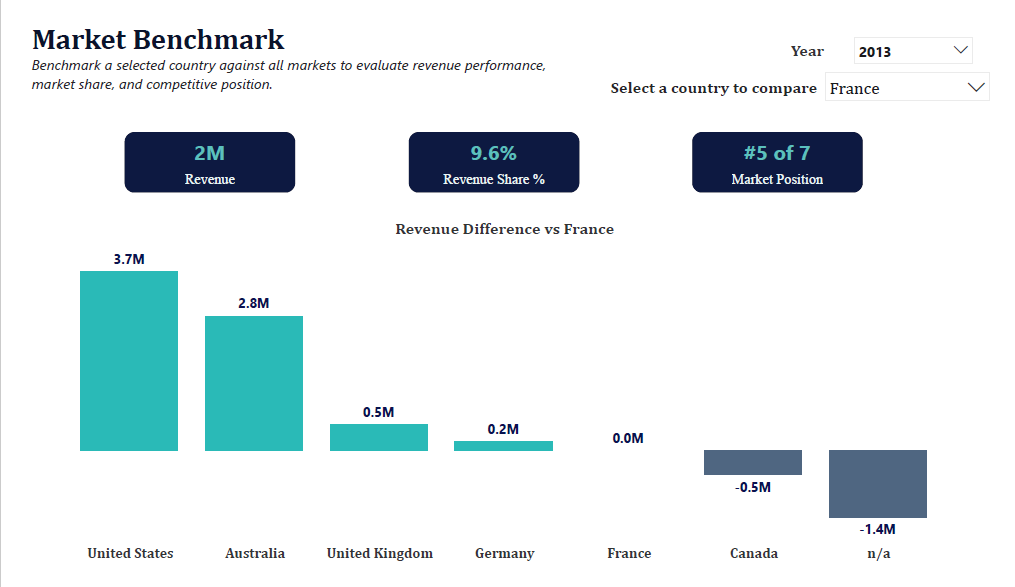

What the dashboard file says about the page in this screenshot:
{"tool":"powerbi","page":{"name":"Market Benchmark","canvas":[1280,720],"ordinal":4},"visuals":[{"type":"slicer","fields":{"Values":["dim_date.Date.Variation.Date Hierarchy.Year"]},"box":[1083.9,14,174.7,55.4],"z":0,"group":"g1"},{"type":"slicer","fields":{"Values":["Country Picker.country"]},"box":[1045.4,61.5,234.6,279.9],"z":0},{"type":"clusteredColumnChart","fields":{"Category":["gold dim_customers.country"],"Y":["Created_measures.Countries Total Sales Vs Selected country"]},"box":[9.7,252.4,1250.9,467.7],"z":1},{"type":"cardVisual","fields":{"Data":["Created_measures.Selected Country Revenue Benchmark"]},"box":[121.4,132.4,257.3,113.3],"z":2},{"type":"cardVisual","fields":{"Data":["Created_measures.Selected Country Revenue Share % Benchmark"]},"box":[492.7,132.4,257.3,113.3],"z":3},{"type":"cardVisual","fields":{"Data":["Created_measures.Market Position"]},"box":[864.1,132.4,257.3,113.3],"z":4},{"type":"textbox","box":[768.6,72.8,299.4,45.3],"z":5},{"type":"group","id":"g1","title":"Group 1","box":[981.4,14,278.4,56.1],"z":6},{"type":"textbox","box":[11.3,0,734.7,118.1],"z":7},{"type":"textbox","box":[981.4,24.1,102.5,37],"z":1000,"group":"g1"}]}

Visuals, with their boxes in screenshot pixels (x1, y1, x2, y2), scaled from the page's 1280x720 canvas onto the 1015x587 screenshot:
slicer - dim_date.Date.Variation.Date Hierarchy.Year: 859/11/998/57
slicer - Country Picker.country: 829/50/1014/278
clusteredColumnChart - gold dim_customers.country x Created_measures.Countries Total Sales Vs Selected country: 8/206/1000/586
cardVisual - Created_measures.Selected Country Revenue Benchmark: 96/108/300/200
cardVisual - Created_measures.Selected Country Revenue Share % Benchmark: 391/108/595/200
cardVisual - Created_measures.Market Position: 685/108/889/200
textbox: 609/59/847/96
"Group 1" group: 778/11/999/57
textbox: 9/0/592/96
textbox: 778/20/859/50
